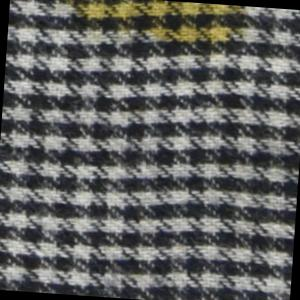Stain: (43, 1, 251, 59)
